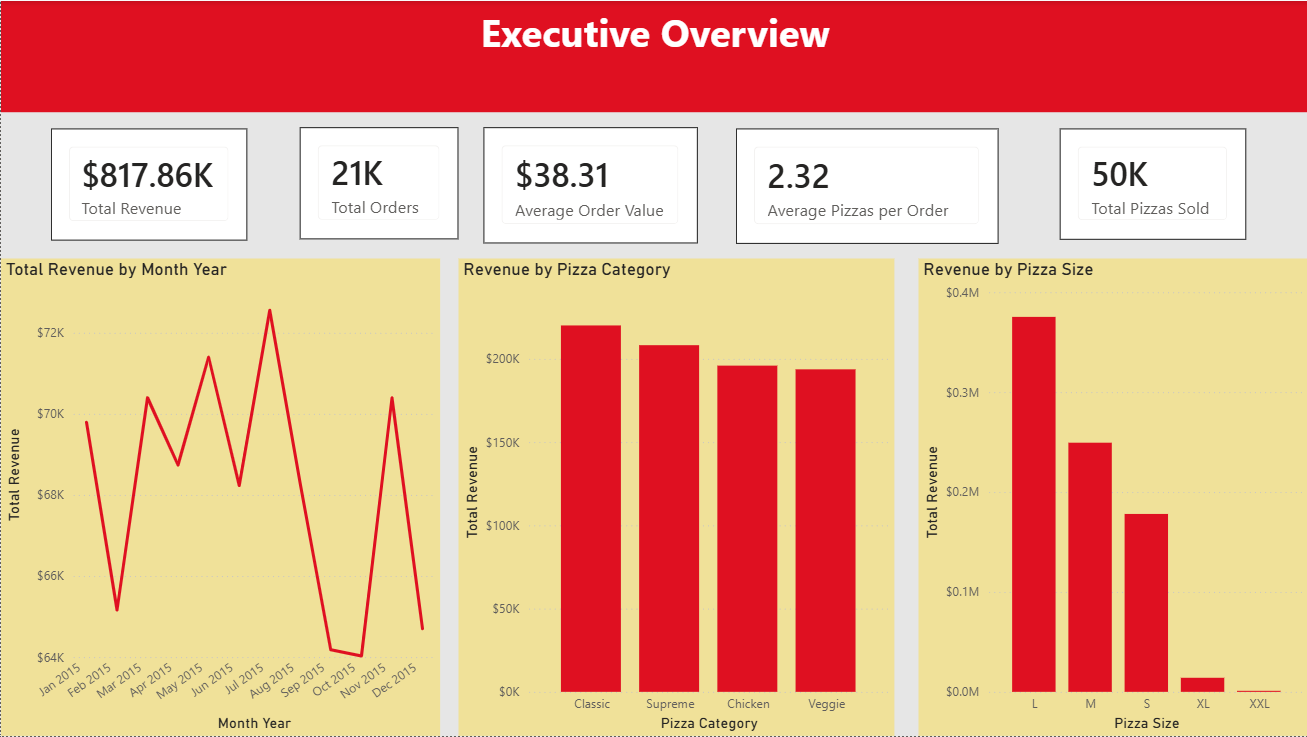

The dashboard page shown, as its layout file describes it:
{"tool":"powerbi","page":{"name":"Executive Overview","canvas":[1280,720],"ordinal":0},"visuals":[{"type":"cardVisual","fields":{"Data":["pizza_sales.Total Revenue"]},"box":[49.4,124.9,192.1,109.8],"z":0},{"type":"textbox","box":[0,0,1280.3,108.4],"z":1000},{"type":"cardVisual","fields":{"Data":["pizza_sales.Total Orders"]},"box":[292.3,123.5,155.1,109.8],"z":2000},{"type":"cardVisual","fields":{"Data":["pizza_sales.Total Pizzas Sold"]},"box":[1036,124.9,182.5,108.4],"z":3000},{"type":"cardVisual","fields":{"Data":["pizza_sales.Average Order Value"]},"box":[472,123.5,209.9,113.9],"z":4000},{"type":"cardVisual","fields":{"Data":["pizza_sales.Average Pizzas per Order"]},"box":[719,124.9,256.6,112.5],"z":5000},{"type":"lineChart","fields":{"Category":["pizza_sales.Month Year"],"Y":["pizza_sales.Total Revenue"]},"box":[0,252.5,429.5,467.9],"z":6000},{"type":"clusteredColumnChart","title":"Revenue by Pizza Category","fields":{"Y":["pizza_sales.Total Revenue"],"Category":["pizza_sales.pizza_category"]},"box":[447.3,252.5,426.8,467.9],"z":7000},{"type":"clusteredColumnChart","title":"Revenue by Pizza Size","fields":{"Category":["pizza_sales.pizza_size"],"Y":["pizza_sales.Total Revenue"]},"box":[897.4,252.5,382.8,467.9],"z":8000}]}

Visuals, with their boxes in screenshot pixels (x1, y1, x2, y2), scaled from the page's 1280x720 canvas onto the 1307x737 screenshot:
cardVisual - pizza_sales.Total Revenue: l=50, t=128, r=247, b=240
textbox: l=0, t=0, r=1306, b=111
cardVisual - pizza_sales.Total Orders: l=298, t=126, r=457, b=239
cardVisual - pizza_sales.Total Pizzas Sold: l=1058, t=128, r=1244, b=239
cardVisual - pizza_sales.Average Order Value: l=482, t=126, r=696, b=243
cardVisual - pizza_sales.Average Pizzas per Order: l=734, t=128, r=996, b=243
lineChart - pizza_sales.Month Year x pizza_sales.Total Revenue: l=0, t=258, r=439, b=736
"Revenue by Pizza Category" clusteredColumnChart: l=457, t=258, r=893, b=736
"Revenue by Pizza Size" clusteredColumnChart: l=916, t=258, r=1306, b=736
